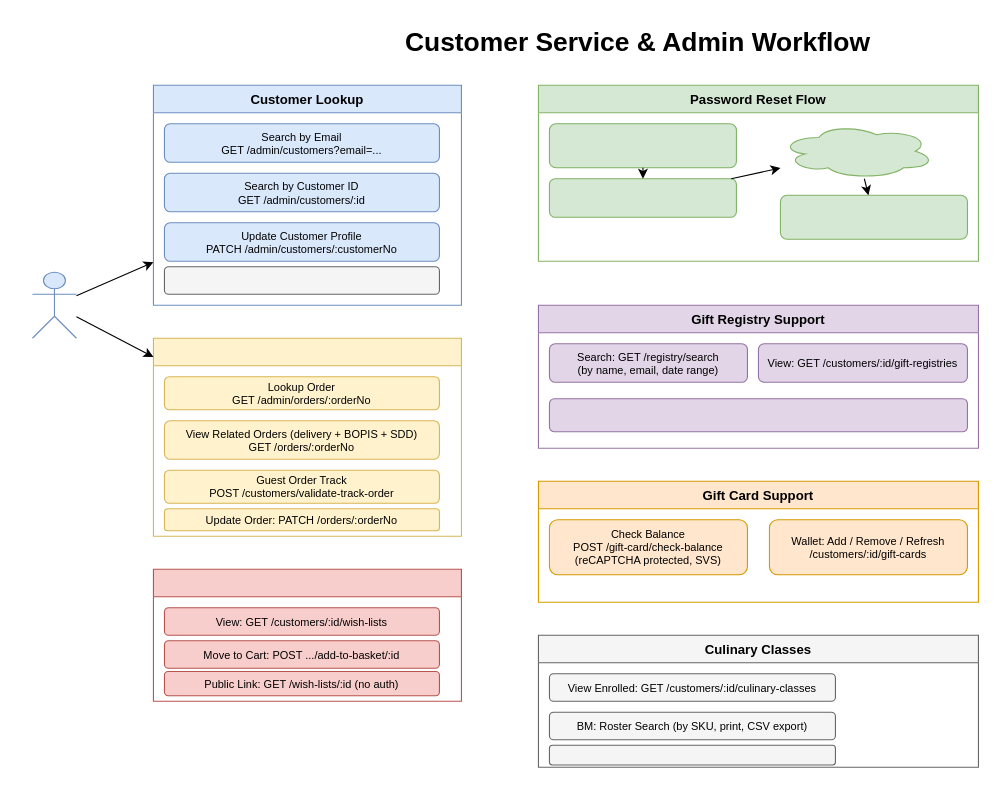
Some shapes in this 998 by 787 pixel diagram are drawn without their labels. Each missing label, with the box of its shape:
BM: Fill Rate Reports (capacity vs. enrollment): (548, 744, 835, 765)
Customer requests reset POST /customers/forgot-password: (548, 123, 736, 168)
Customer resets password POST /customers/reset-password: (779, 194, 967, 239)
Customer Service Rep: (31, 271, 76, 338)
Emarsys sends reset email: (779, 123, 934, 179)
Manage items: POST/PATCH/DELETE /customers/:id/gift-registries/:id/items: (548, 398, 967, 432)
Order Support: (152, 337, 461, 536)
SFCC BM: Direct customer editing: (163, 266, 439, 294)
SFCC generates token Webhook fires: (548, 178, 736, 217)
Wish List & Save-for-Later: (152, 568, 461, 701)
